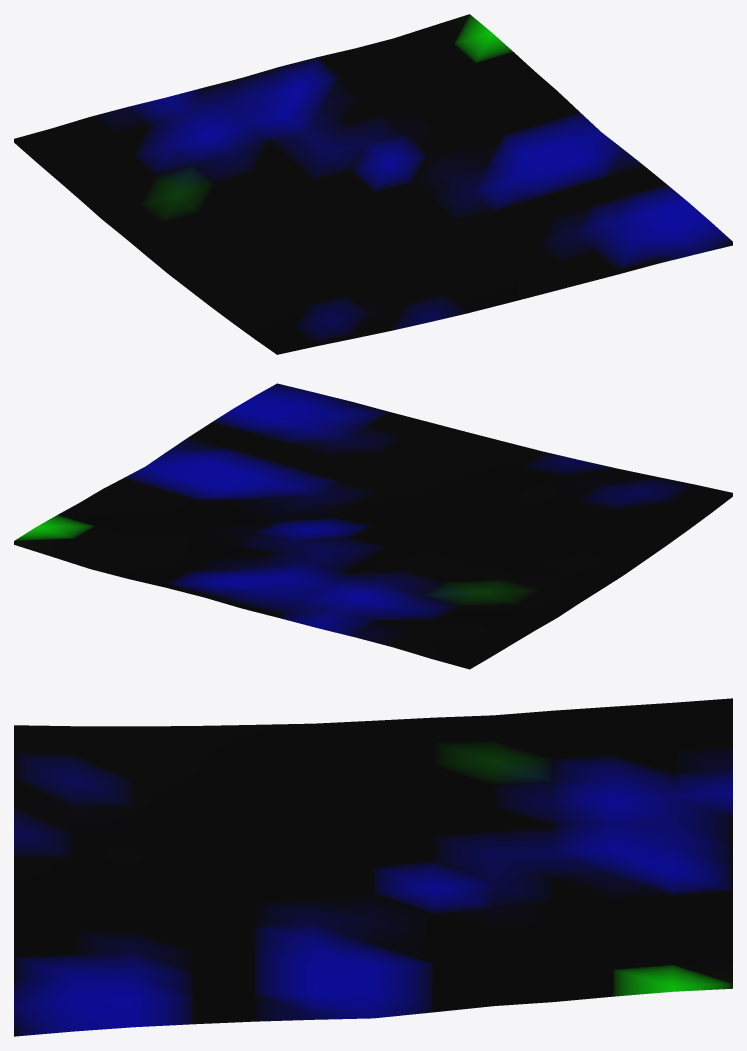
File: coast_15_3.glb
3 views of the same model, one above another, from view 1: azimuth 30°, elevation 25°; view 2: azimuth 150°, elevation 25°; view 3: azimuth 270°, elevation 25° (orthographic). The views are drawn at different scales.
Visible parts, largest first — view 1: terrain; view 2: terrain; view 3: terrain.
Boxes of the visible parts, x1=… form: terrain: x1=14, y1=14, x2=732, y2=354; terrain: x1=14, y1=383, x2=732, y2=669; terrain: x1=14, y1=698, x2=732, y2=1036.
Bounding box in the file's own units: 192 × 16.88 × 192.
